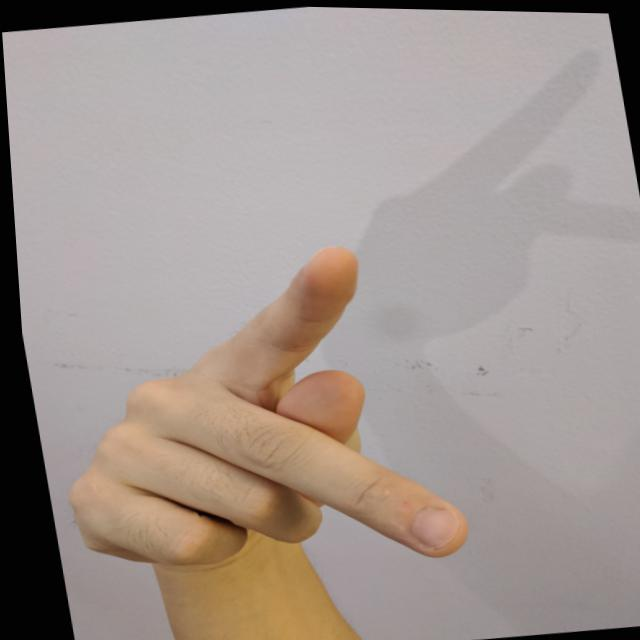P: (18, 221, 478, 600)
